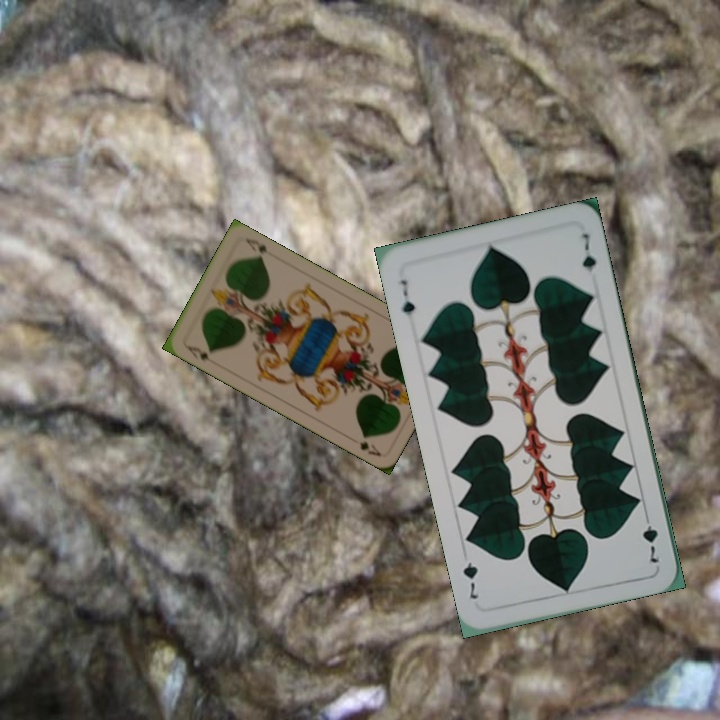G7: (638, 508, 662, 566), (396, 275, 418, 318)
GA: (180, 340, 218, 366)
